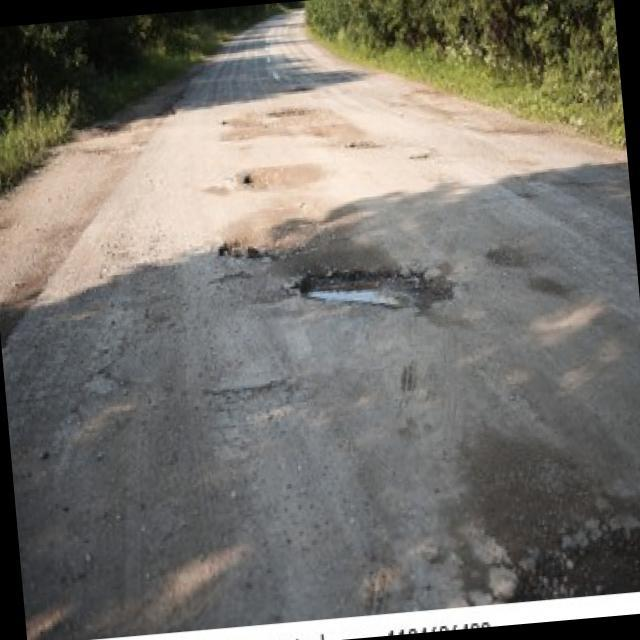Pothole: (290, 254, 442, 318), (217, 228, 327, 266), (244, 166, 306, 190)
